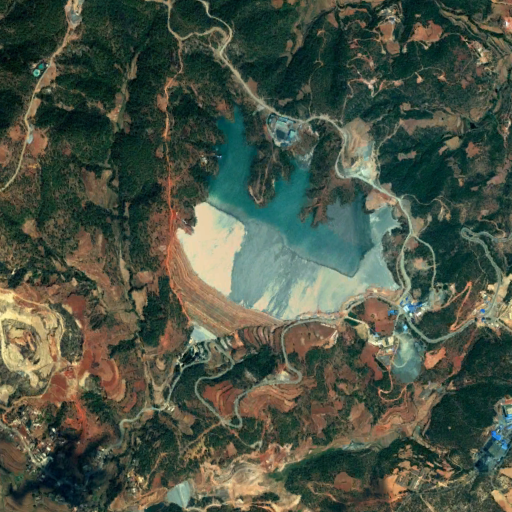tp: (165, 105, 405, 343)
